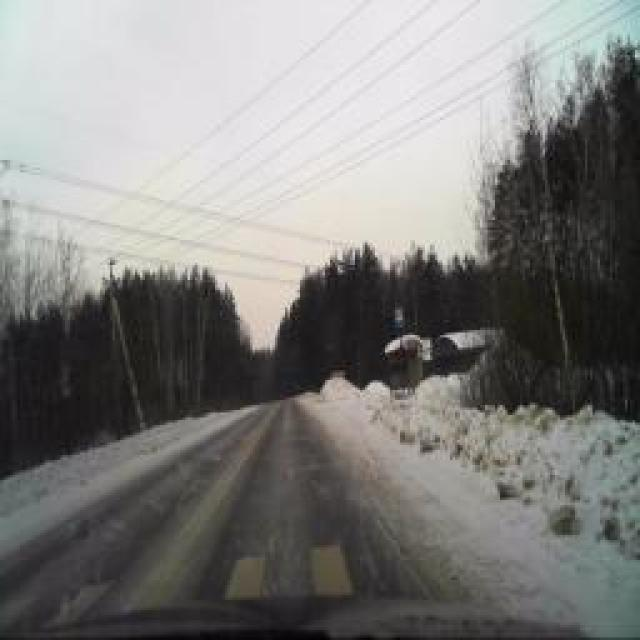sign: (394, 305, 404, 327)
